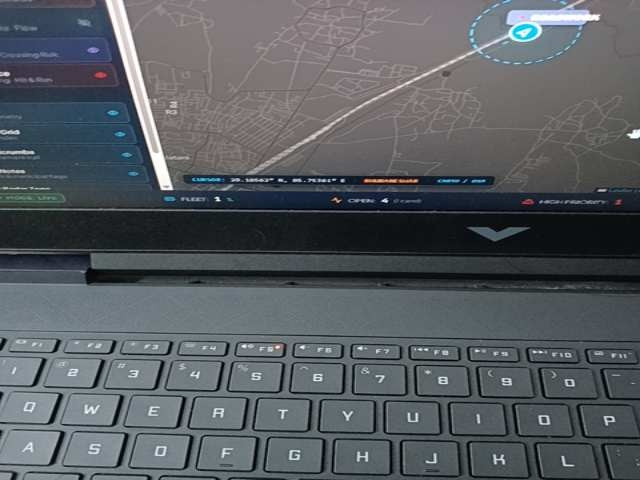pothole: (102, 403, 307, 480), (536, 403, 640, 480)
